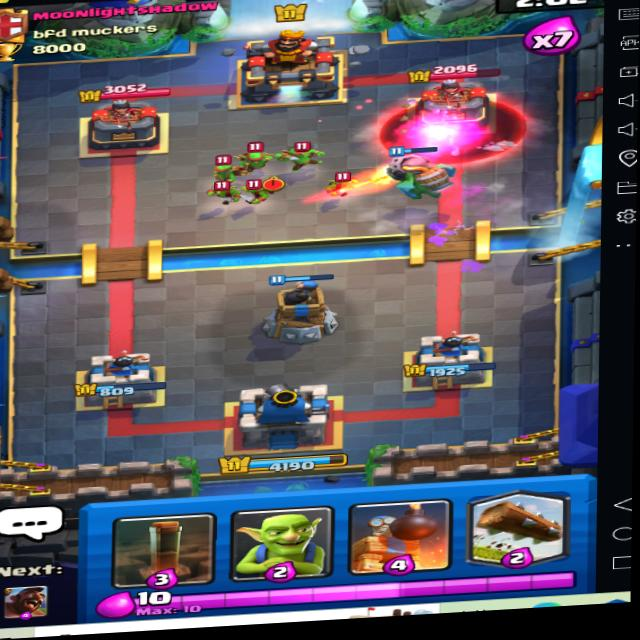Goblin: (241, 174, 285, 206), (197, 175, 243, 204), (318, 166, 360, 195)
Speargoblin: (241, 137, 281, 173), (285, 135, 326, 170), (204, 150, 239, 189)
Void: (383, 89, 525, 166)
